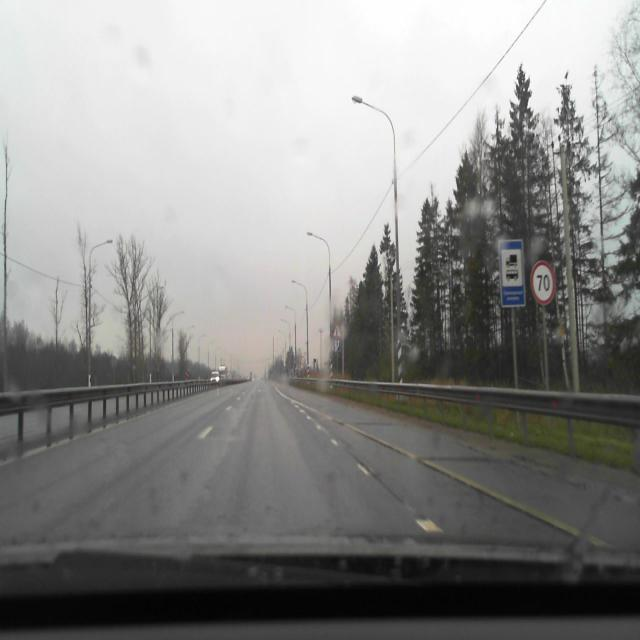road sign: (499, 239, 526, 307)
